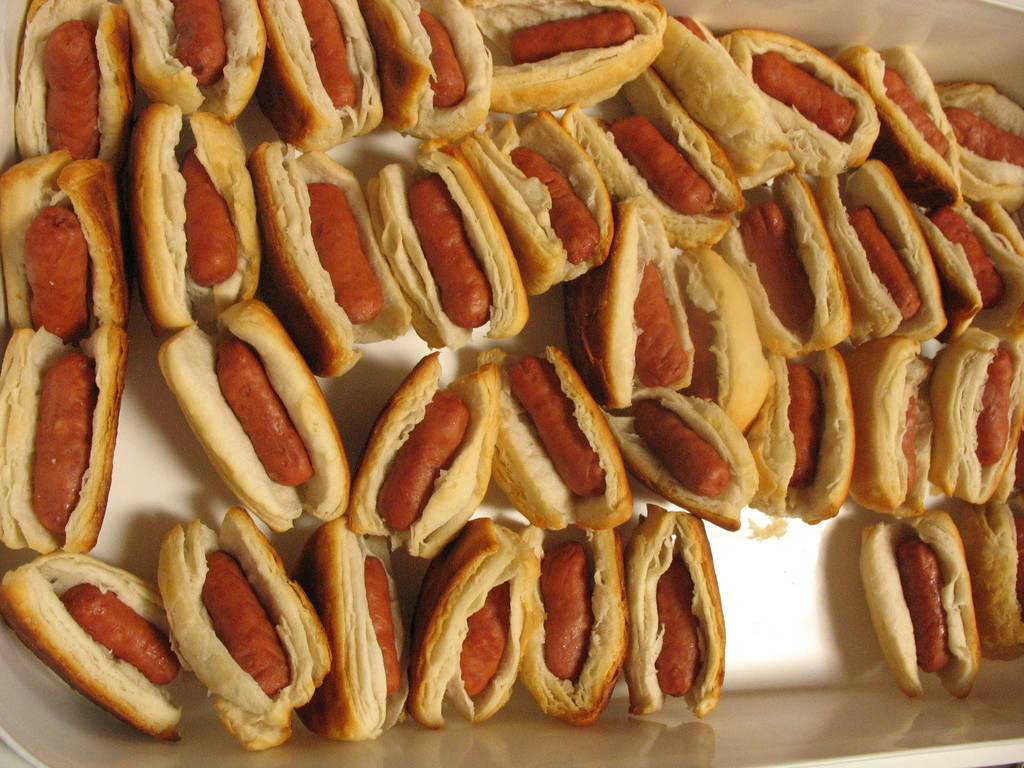hot_dog: (0, 0, 1023, 753), (15, 555, 175, 739)
